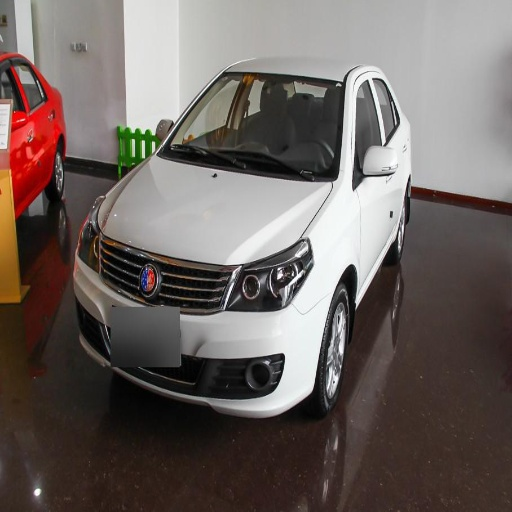front_bumper: (77, 237, 329, 418)
front_glass: (159, 72, 344, 181)
front_left_door: (352, 72, 393, 294)
